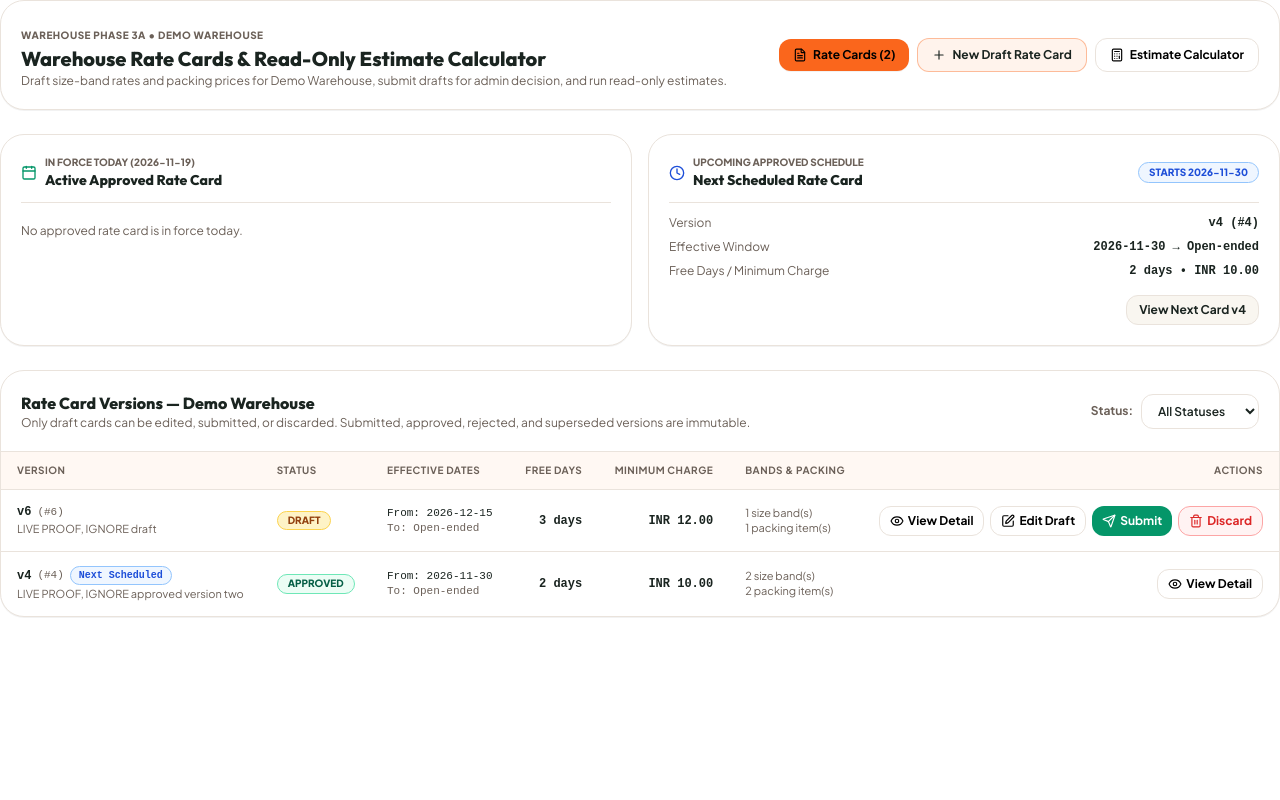
Test: Warehouse Rate Cards Screens (Phase 3a) › 6. Draft Discard & Manager 409 Conflict: discards a draft via confirm dialog with reason, and refetches on 409 state conflict
Check: the row with test id "manager-rate-card-row-6" is shown, box [1,490,1279,552]
// Open Discard modal
Click the button with test id "manager-discard-rate-card-btn-6" at (1221, 521), box [1178,506,1263,536]
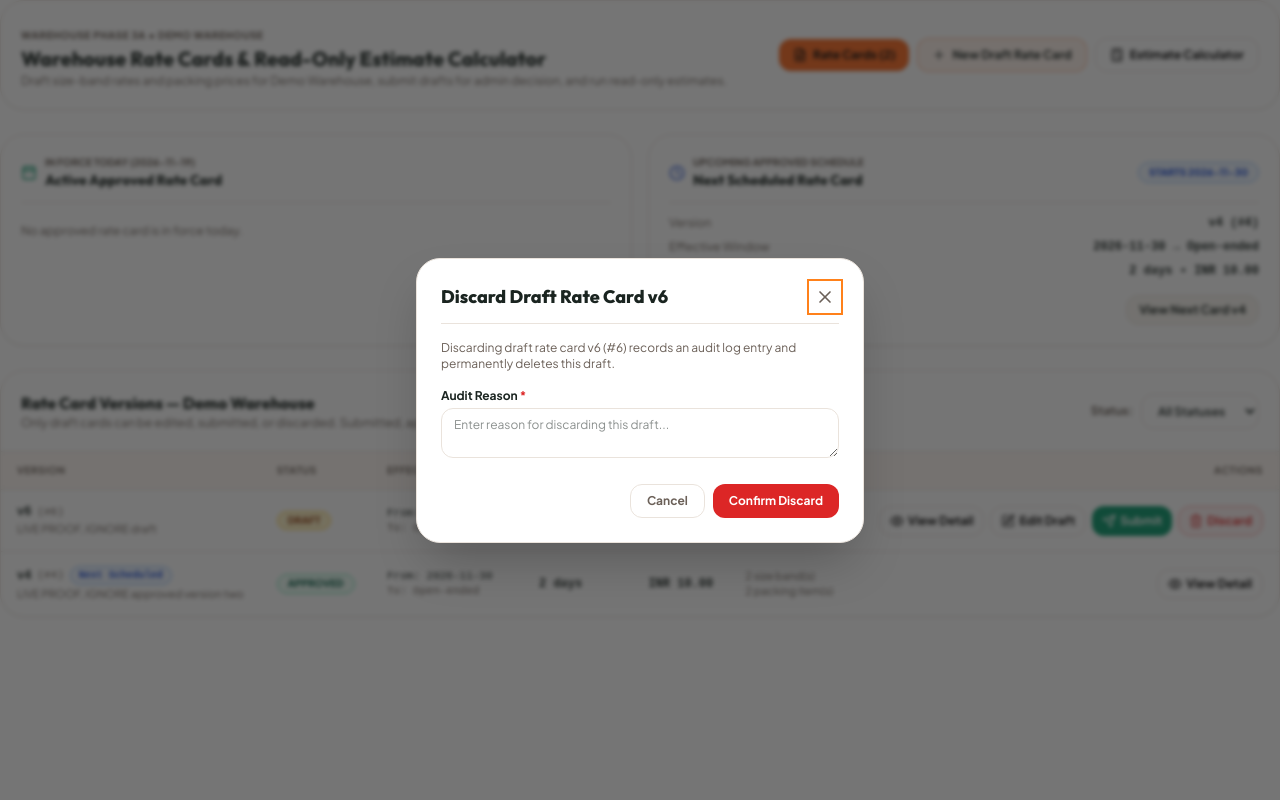
Check: the dialog with test id "manager-discard-card-modal" is shown, box [416,258,864,542]
Type "LIVE PROOF, IGNORE discard" into the text box with test id "manager-discard-reason-input" at (640, 432), box [441,408,839,458]
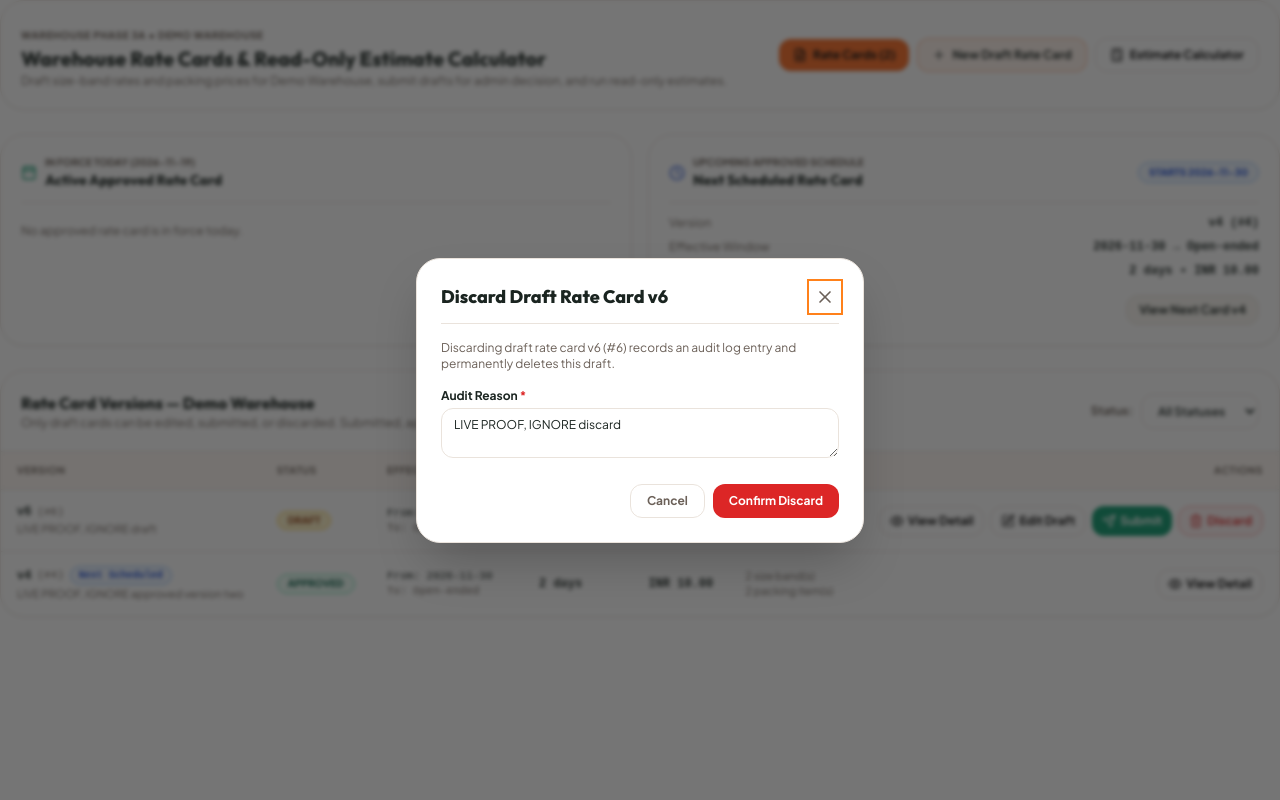
Click the button with test id "manager-confirm-discard-btn" at (776, 500), box [713,484,839,518]
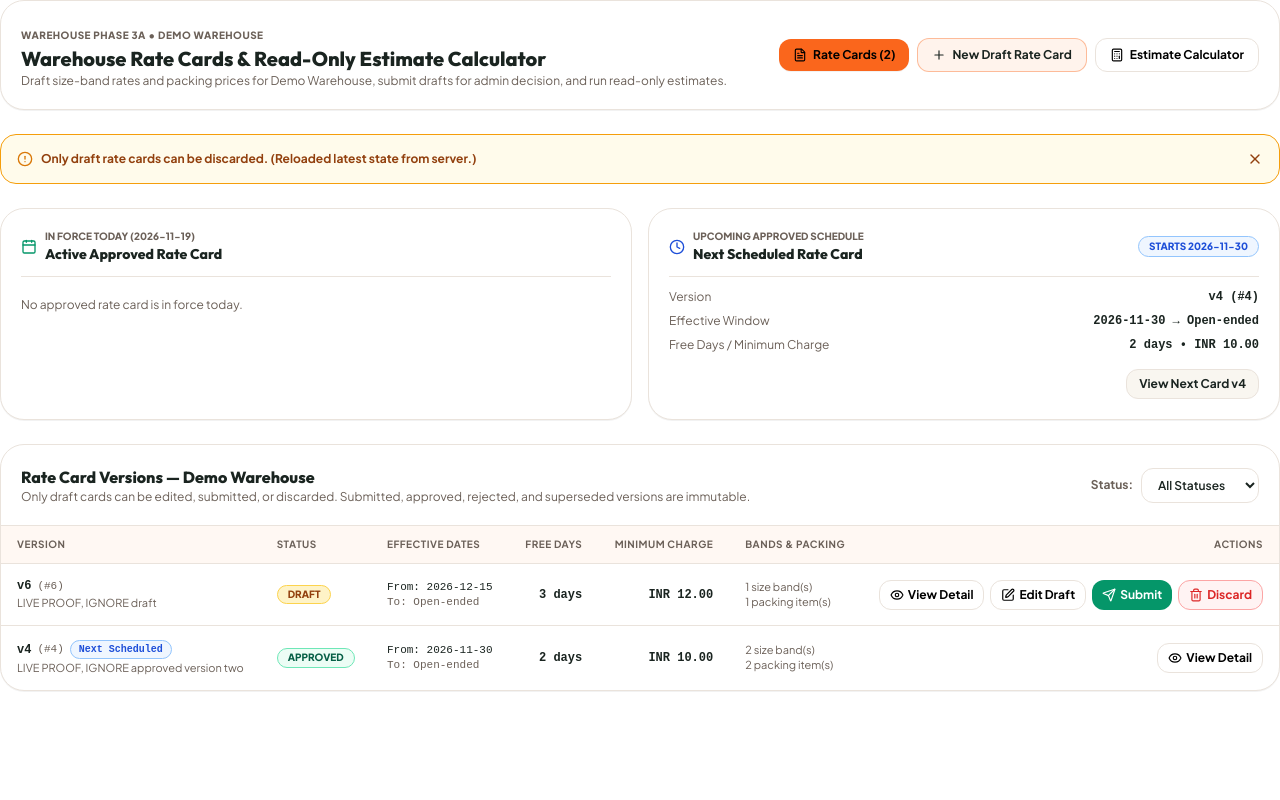
Check: the message with test id "manager-rate-card-conflict-alert" shows "Only draft rate cards can be discarded.", box [41,151,268,166]
// Now test successful discard
Click the button with test id "manager-discard-rate-card-btn-6" at (1221, 595), box [1178,580,1263,610]
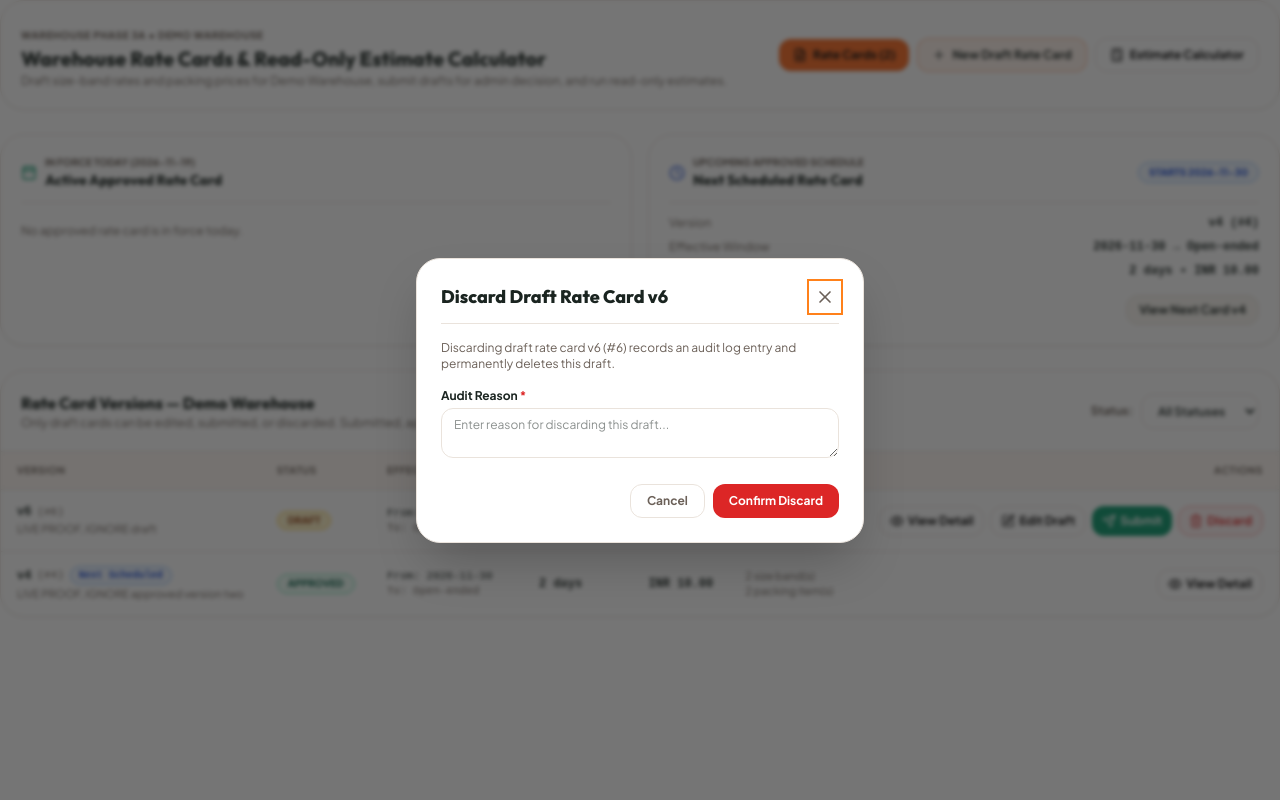
Type "LIVE PROOF, IGNORE discard draft" into the text box with test id "manager-discard-reason-input" at (640, 432), box [441,408,839,458]
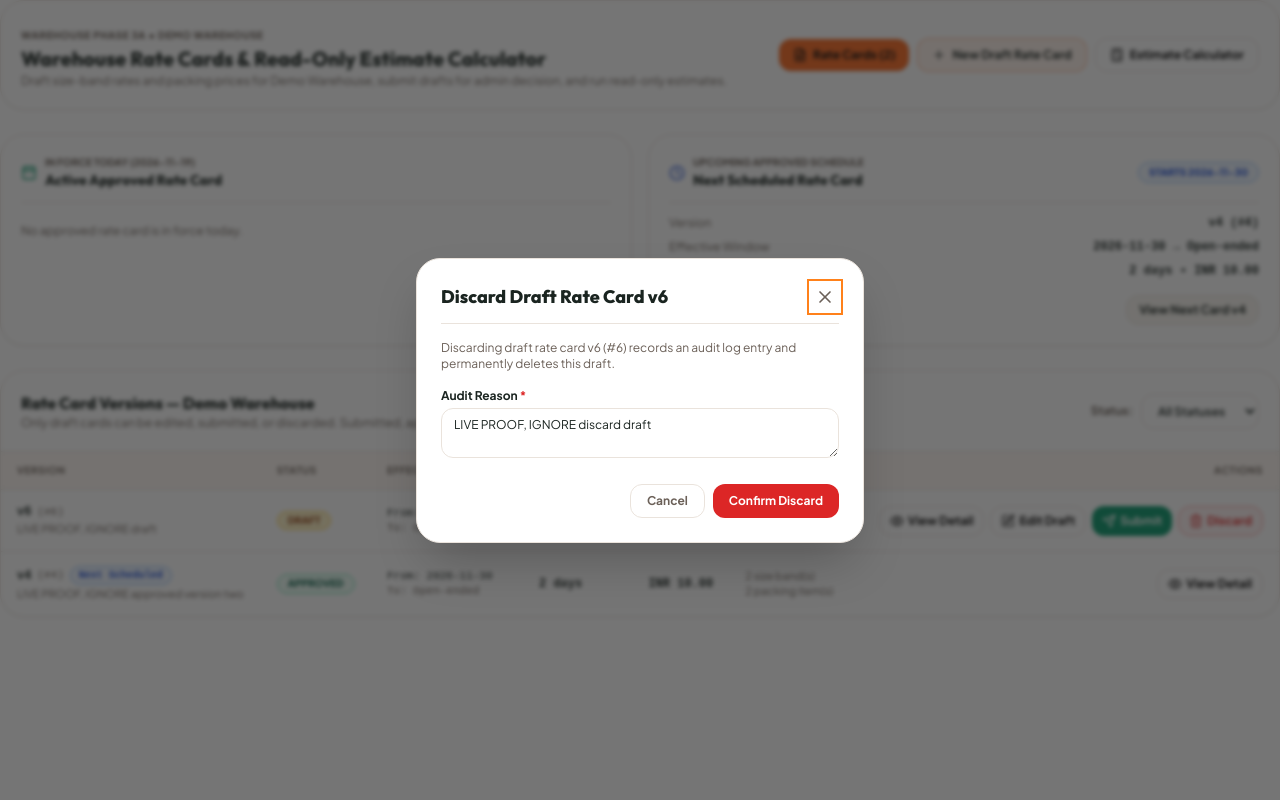
Click the button with test id "manager-confirm-discard-btn" at (776, 500), box [713,484,839,518]
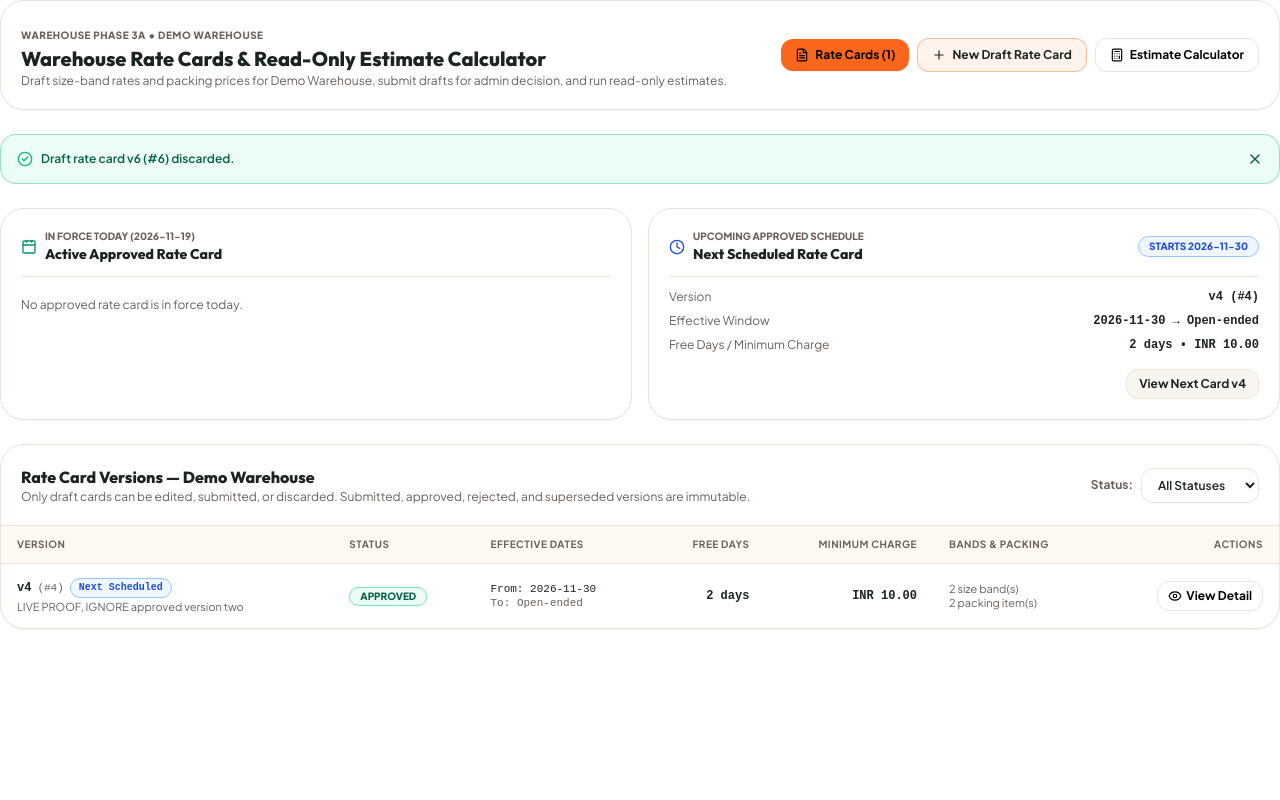
Check: the message with test id "manager-rate-card-feedback-banner" reads "Draft rate card v6 (#6) discarded.", box [41,151,234,166]
Check: the row with test id "manager-rate-card-row-6" is gone
